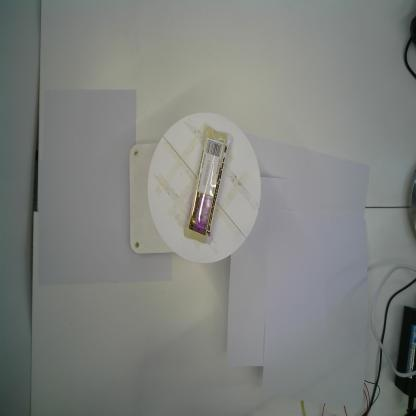Chocolate: (182, 123, 232, 244)
